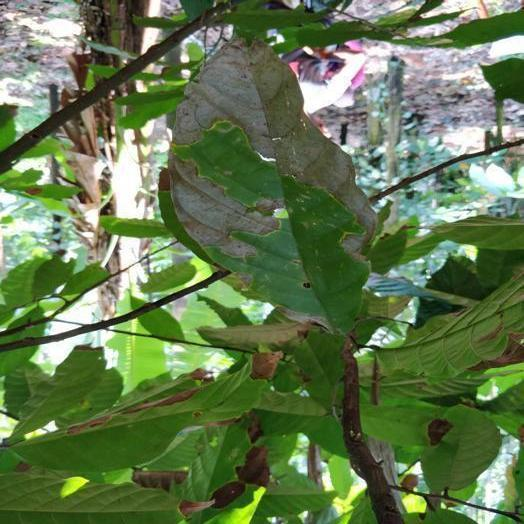Potassium: (169, 39, 376, 337)
